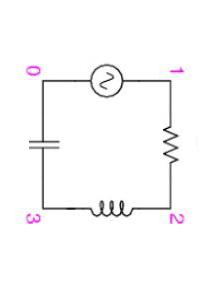resistor: (151, 111, 187, 176)
